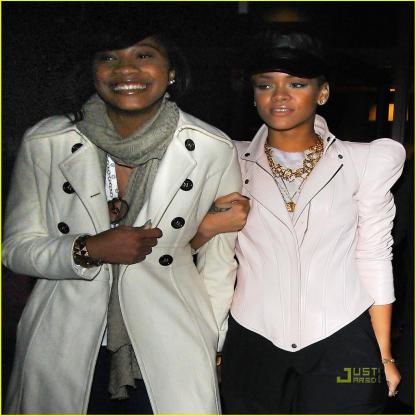face: (93, 30, 171, 111), (251, 51, 320, 129)
